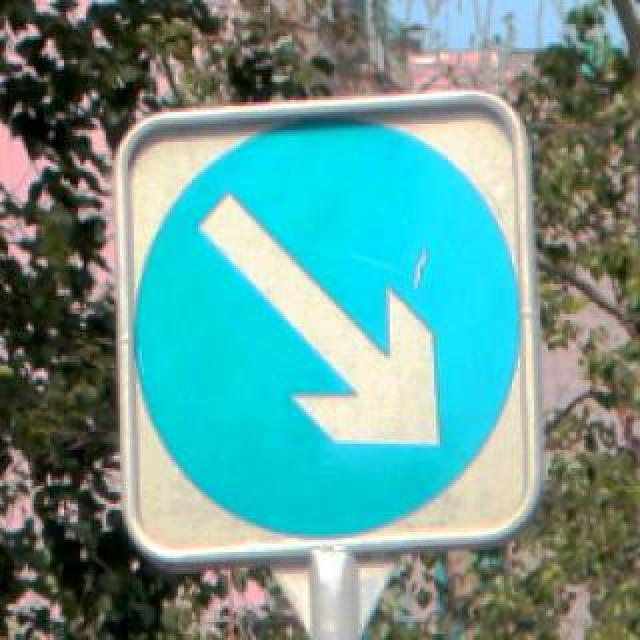keep right: (128, 114, 518, 534)
